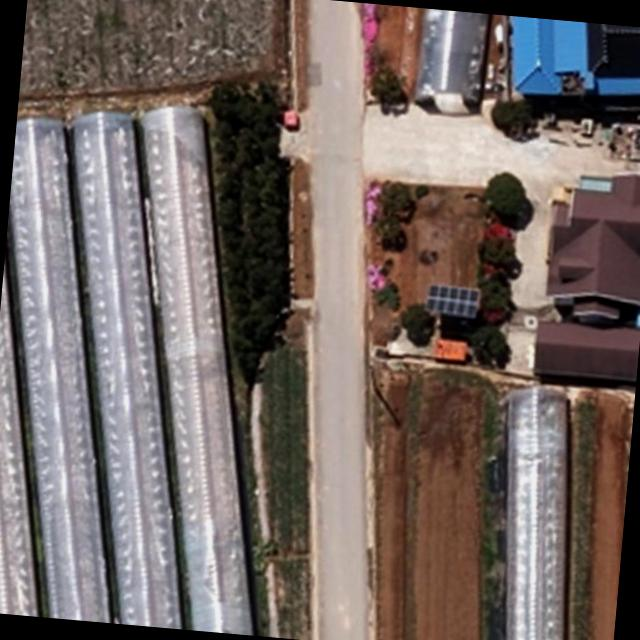solar: (424, 282, 482, 320)
